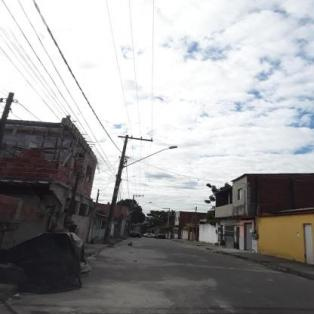Poste: (102, 134, 130, 244)
